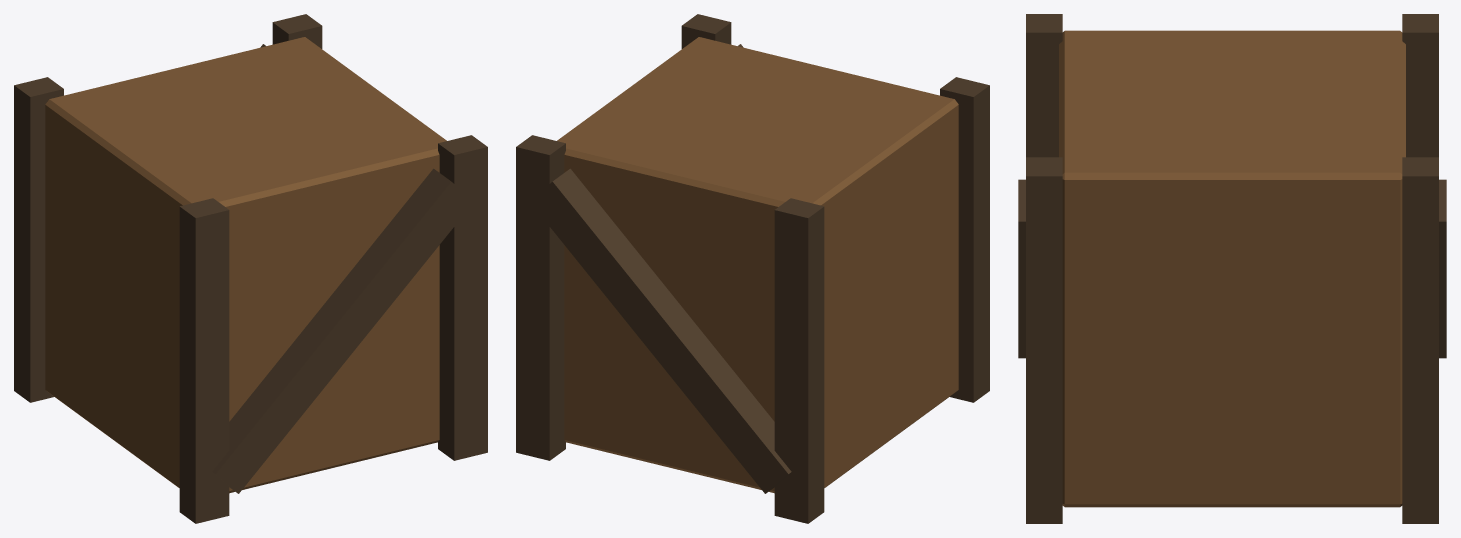
File: crate.glb
The picture shows the model from 3 angles, left to right: view 1: azimuth 30°, elevation 25°; view 2: azimuth 150°, elevation 25°; view 3: azimuth 270°, elevation 25°; orthographic projection. The views are drawn at different scales.
Visible parts, largest first — view 1: crate; view 2: crate; view 3: crate.
Part boxes in pixels (x1=…): crate: x1=14, y1=14, x2=487, y2=523; crate: x1=516, y1=14, x2=989, y2=523; crate: x1=1018, y1=14, x2=1446, y2=523.
Bounding box in the file's own units: 1.04 × 1.04 × 1.16.
